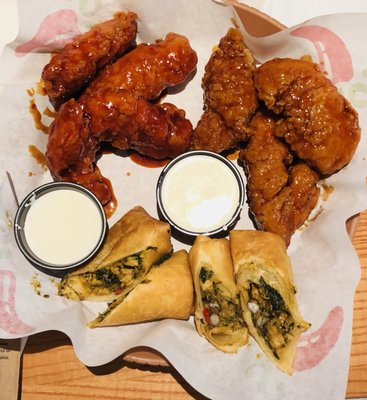salad: (212, 0, 363, 69)
soup: (230, 229, 310, 377), (56, 204, 174, 304), (92, 248, 194, 328), (188, 233, 250, 354)
sushi: (13, 181, 109, 279), (155, 150, 250, 246)
